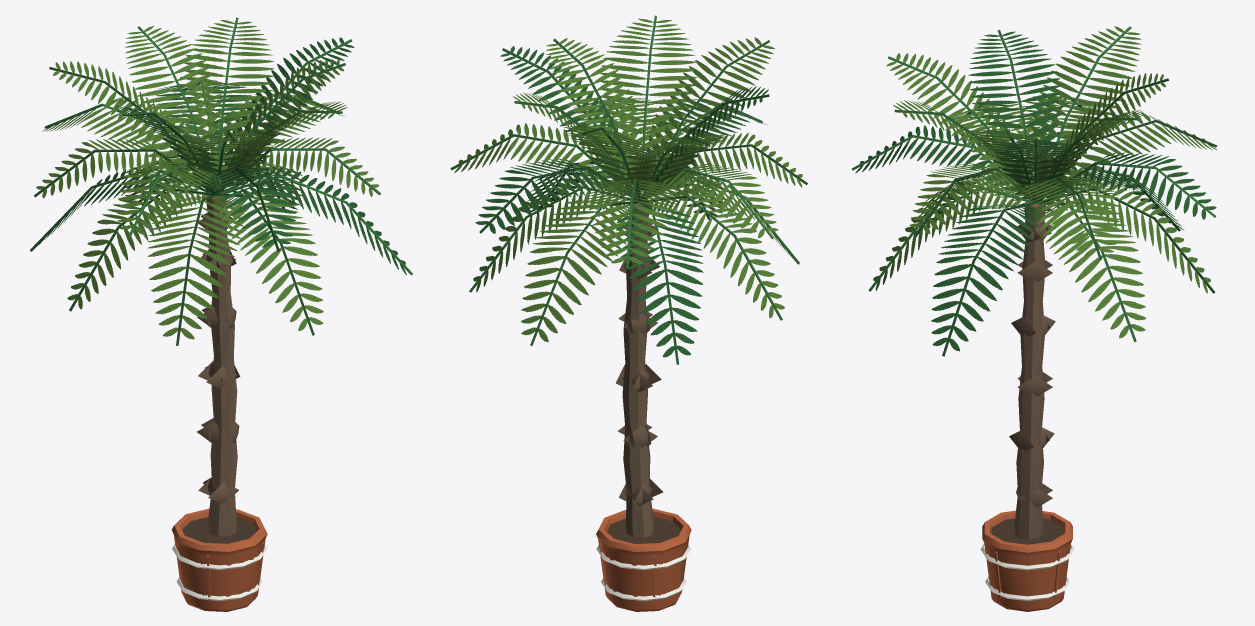
The model's file is PalmInTub.glb.
3 renders of one model, left to right at view 1: azimuth 30°, elevation 25°; view 2: azimuth 150°, elevation 25°; view 3: azimuth 270°, elevation 25°, orthographic.
Parts seen in each view (by area): view 1: PalmInTub_Palm, PalmInTub_Bark, PalmInTub_Deep, PalmInTub_Pot, PalmInTub_Soil, PalmInTub_Iron; view 2: PalmInTub_Palm, PalmInTub_Deep, PalmInTub_Bark, PalmInTub_Pot, PalmInTub_Soil, PalmInTub_Iron; view 3: PalmInTub_Palm, PalmInTub_Bark, PalmInTub_Deep, PalmInTub_Pot, PalmInTub_Iron, PalmInTub_Soil.
Part boxes in pixels (x1,y1,x2,y2): PalmInTub_Palm: (33,20,406,339); PalmInTub_Bark: (197,195,240,536); PalmInTub_Deep: (30,17,412,345); PalmInTub_Pot: (172,508,267,611); PalmInTub_Soil: (182,517,256,543); PalmInTub_Iron: (172,544,267,601); PalmInTub_Palm: (454,18,802,357); PalmInTub_Deep: (450,15,807,364); PalmInTub_Bark: (616,199,663,537); PalmInTub_Pot: (596,508,691,611); PalmInTub_Soil: (607,517,681,543); PalmInTub_Iron: (596,544,690,601); PalmInTub_Palm: (855,26,1217,351); PalmInTub_Bark: (1009,202,1055,539); PalmInTub_Deep: (851,26,1217,356); PalmInTub_Pot: (982,510,1072,611); PalmInTub_Iron: (980,544,1074,600); PalmInTub_Soil: (991,518,1063,544).
Size of the model in its own units: 11.25 by 16.44 by 11.53.
6 materials, 1 textured.
